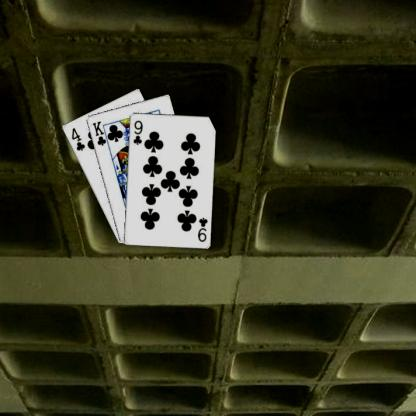4C: (69, 125, 86, 152)
9C: (195, 214, 209, 243), (130, 118, 144, 146)
KC: (90, 118, 110, 147)
